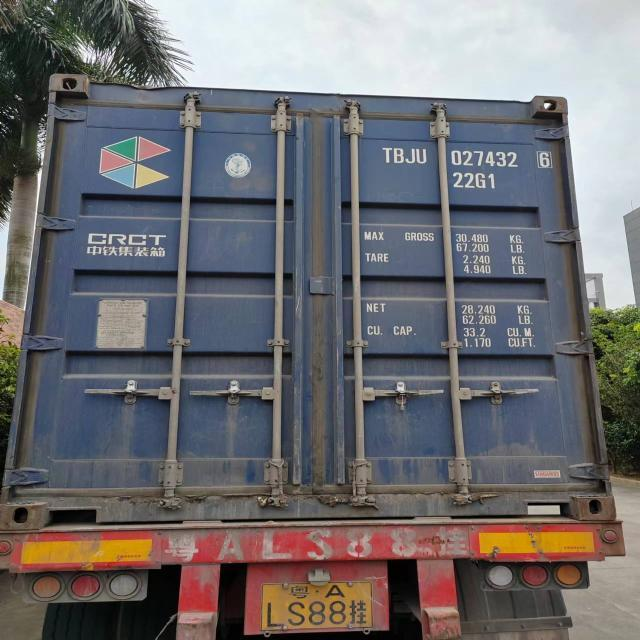ISO: (455, 172, 498, 192)
container_number: (384, 150, 550, 168)
